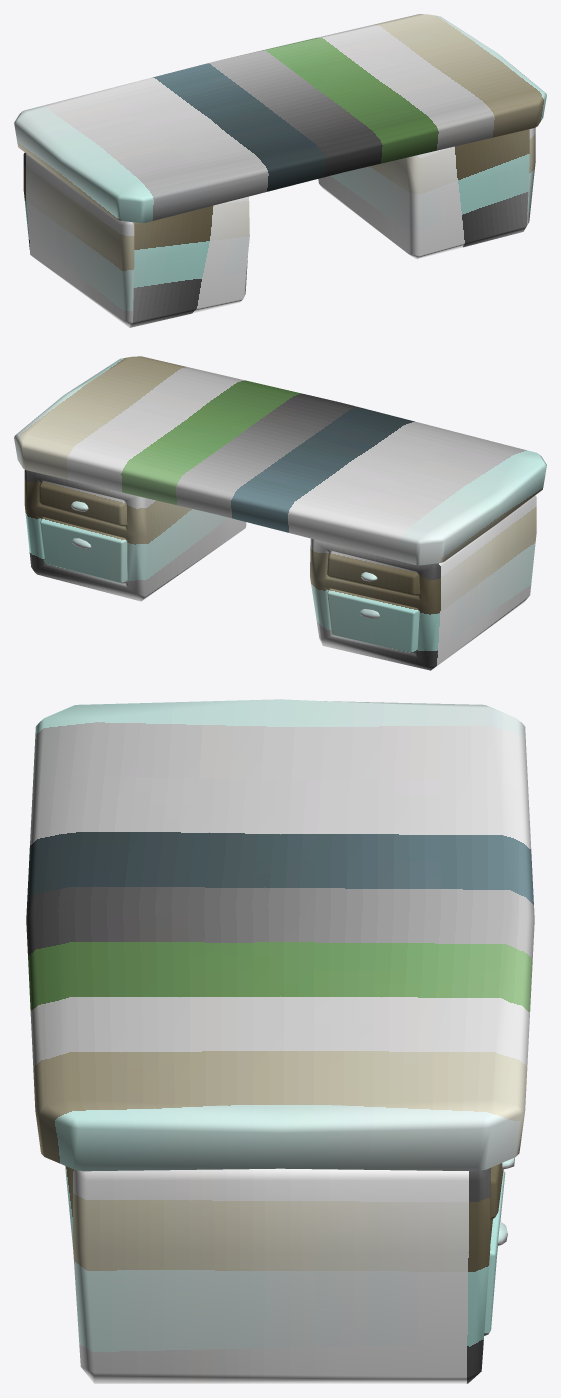
The model's file is P_StoneDesk.glb.
3 renders of one model, top to bottom at view 1: azimuth 30°, elevation 25°; view 2: azimuth 150°, elevation 25°; view 3: azimuth 270°, elevation 25°, orthographic. The views are drawn at different scales.
Parts seen in each view (by area): view 1: P_StoneDesk; view 2: P_StoneDesk; view 3: P_StoneDesk.
Boxes of the visible parts, x1,y1,x2,y2 form: P_StoneDesk: [14, 14, 546, 327]; P_StoneDesk: [14, 356, 546, 670]; P_StoneDesk: [26, 699, 534, 1383].
Size of the model in its own units: 1.99 by 0.6238 by 0.9958.
Materials: 1 (1 with a texture image).
